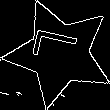L_E: (30, 33, 88, 74)
